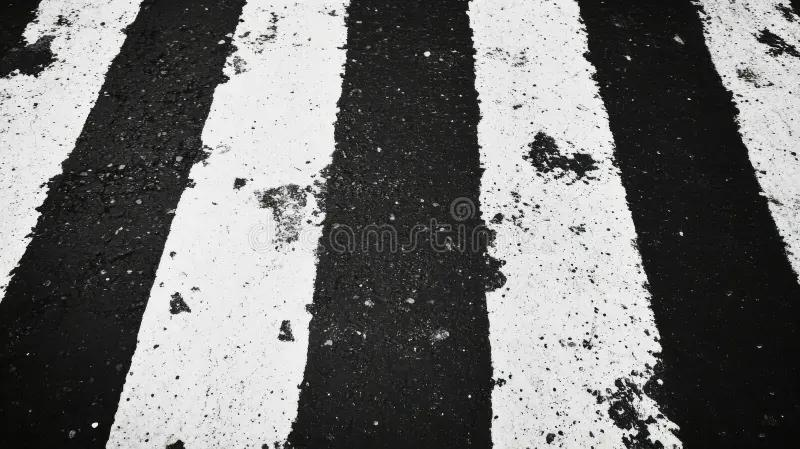faded_road_lines: (107, 0, 348, 448), (469, 0, 681, 448), (0, 0, 142, 301), (693, 0, 799, 282)
